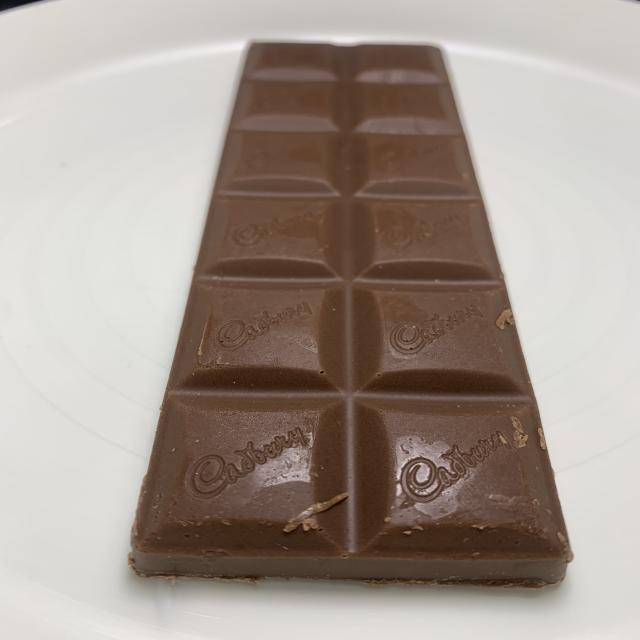chocolate: (127, 43, 569, 590)
